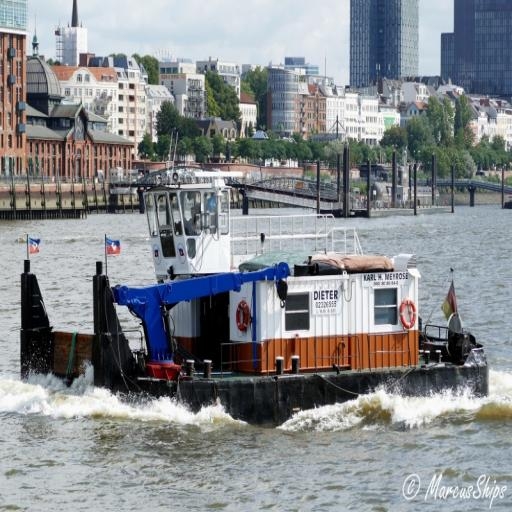tugboat: (19, 167, 492, 435)
